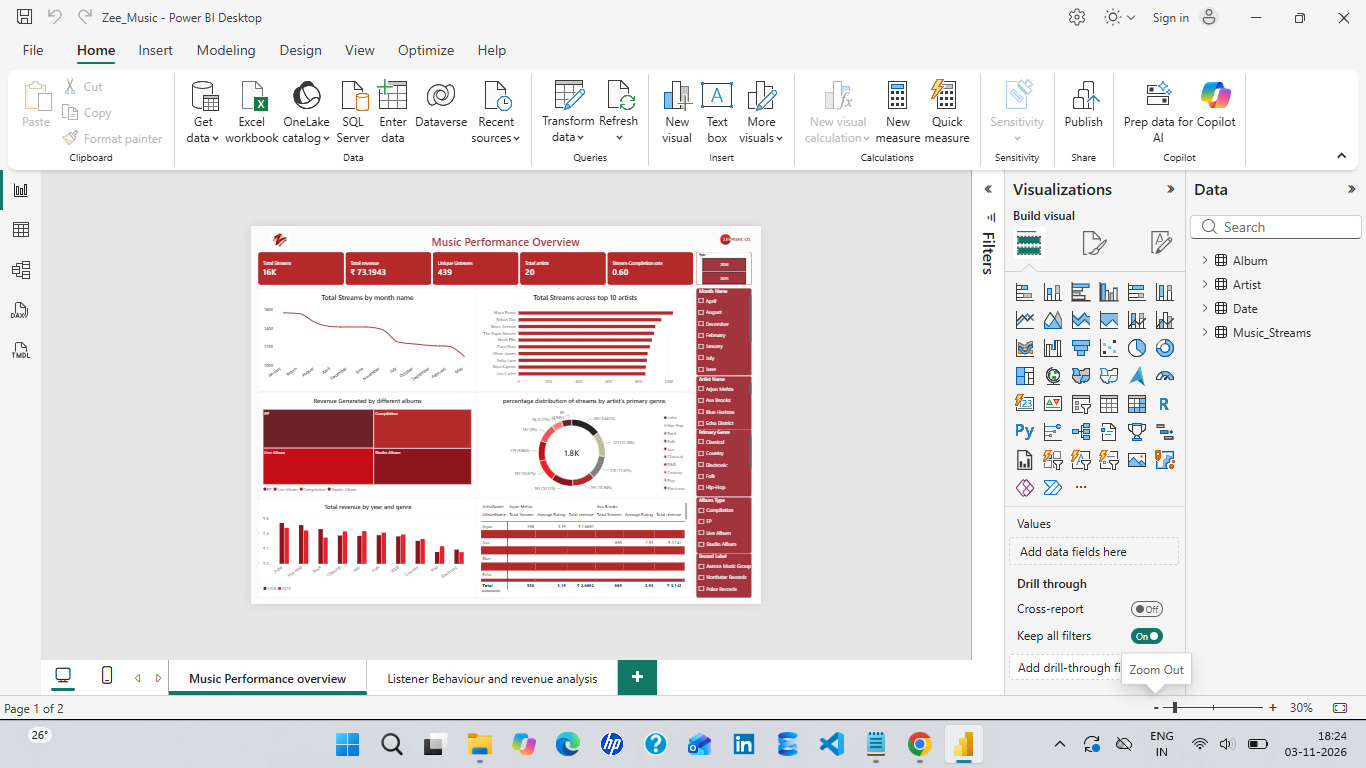

The dashboard page shown, as its layout file describes it:
{"tool":"powerbi","page":{"name":"Music Performance overview","canvas":[1700,1260],"ordinal":0},"visuals":[{"type":"textbox","box":[470,10,757.5,77.5],"z":0},{"type":"image","box":[1560,12,110,58.3],"z":1000},{"type":"cardVisual","fields":{"Data":["Album.Total Streams","Album.Total revenue","Album.Unique Listeners","Album.Total artists","Album.Stream Completion rate"]},"box":[22,88,1454,110],"z":2000},{"type":"lineChart","title":"Total Streams by month name","fields":{"Category":["Date.MonthName"],"Y":["Album.Total Streams"]},"box":[22.5,207.5,727.5,345],"z":3000},{"type":"clusteredBarChart","title":"Total Streams across top 10 artists","fields":{"Category":["Artist.ArtistName"],"Y":["Album.Total Streams"]},"box":[750,207.5,725,345],"z":4000},{"type":"donutChart","title":"percentage distribution of streams by artist''s primary genre.","fields":{"Category":["Artist.PrimaryGenre"],"Y":["CountNonNull(Music_Streams.Stream Category)"]},"box":[746.7,553.3,728.3,363.3],"z":5000},{"type":"treemap","title":"Revenue Generated by different albums","fields":{"Group":["Album.AlbumType"],"Values":["Album.Total revenue"]},"box":[23.3,553.3,728.3,355],"z":6000},{"type":"clusteredColumnChart","title":"Total revenue by year and genre","fields":{"Category":["Artist.PrimaryGenre"],"Series":["Date.Year"],"Y":["Album.Total revenue"]},"box":[21.7,906.7,730,333.3],"z":7000},{"type":"pivotTable","fields":{"Columns":["Artist.ArtistName"],"Rows":["Album.AlbumName"],"Values":["Album.Total Streams","Album.Average Rating","Album.Total revenue"]},"box":[750.6,907.4,722.2,332.1],"z":8000},{"type":"image","box":[22.2,12.3,145,70],"z":9000},{"type":"slicer","fields":{"Values":["Date.Year"]},"box":[1483.8,86.2,186.2,110],"z":10000},{"type":"slicer","fields":{"Values":["Date.MonthName"]},"box":[1484,208,186,292],"z":11000},{"type":"slicer","fields":{"Values":["Artist.ArtistName"]},"box":[1484,500,186,184],"z":12000},{"type":"slicer","fields":{"Values":["Artist.PrimaryGenre"]},"box":[1484,676,186,226],"z":13000},{"type":"slicer","fields":{"Values":["Album.AlbumType"]},"box":[1484,902,186,188],"z":14000},{"type":"slicer","fields":{"Values":["Album.RecordLabel"]},"box":[1484,1090,186,150],"z":15000}]}

Visuals, with their boxes on the page's 1700x1260 design canvas (x1, y1, x2, y2). These are canvas units, not pixel positions in the 1366x768 screenshot, which may show the page scaled, cropped or inside an application window:
textbox: pyautogui.locateOnScreen(470, 10, 1228, 88)
image: pyautogui.locateOnScreen(1560, 12, 1670, 70)
cardVisual - Album.Total Streams x Album.Total revenue: pyautogui.locateOnScreen(22, 88, 1476, 198)
"Total Streams by month name" lineChart: pyautogui.locateOnScreen(22, 208, 750, 552)
"Total Streams across top 10 artists" clusteredBarChart: pyautogui.locateOnScreen(750, 208, 1475, 552)
"percentage distribution of streams by artist''s primary genre." donutChart: pyautogui.locateOnScreen(747, 553, 1475, 917)
"Revenue Generated by different albums" treemap: pyautogui.locateOnScreen(23, 553, 752, 908)
"Total revenue by year and genre" clusteredColumnChart: pyautogui.locateOnScreen(22, 907, 752, 1240)
pivotTable - Artist.ArtistName x Album.AlbumName: pyautogui.locateOnScreen(751, 907, 1473, 1240)
image: pyautogui.locateOnScreen(22, 12, 167, 82)
slicer - Date.Year: pyautogui.locateOnScreen(1484, 86, 1670, 196)
slicer - Date.MonthName: pyautogui.locateOnScreen(1484, 208, 1670, 500)
slicer - Artist.ArtistName: pyautogui.locateOnScreen(1484, 500, 1670, 684)
slicer - Artist.PrimaryGenre: pyautogui.locateOnScreen(1484, 676, 1670, 902)
slicer - Album.AlbumType: pyautogui.locateOnScreen(1484, 902, 1670, 1090)
slicer - Album.RecordLabel: pyautogui.locateOnScreen(1484, 1090, 1670, 1240)
